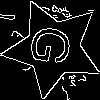G: (28, 23, 82, 70)
